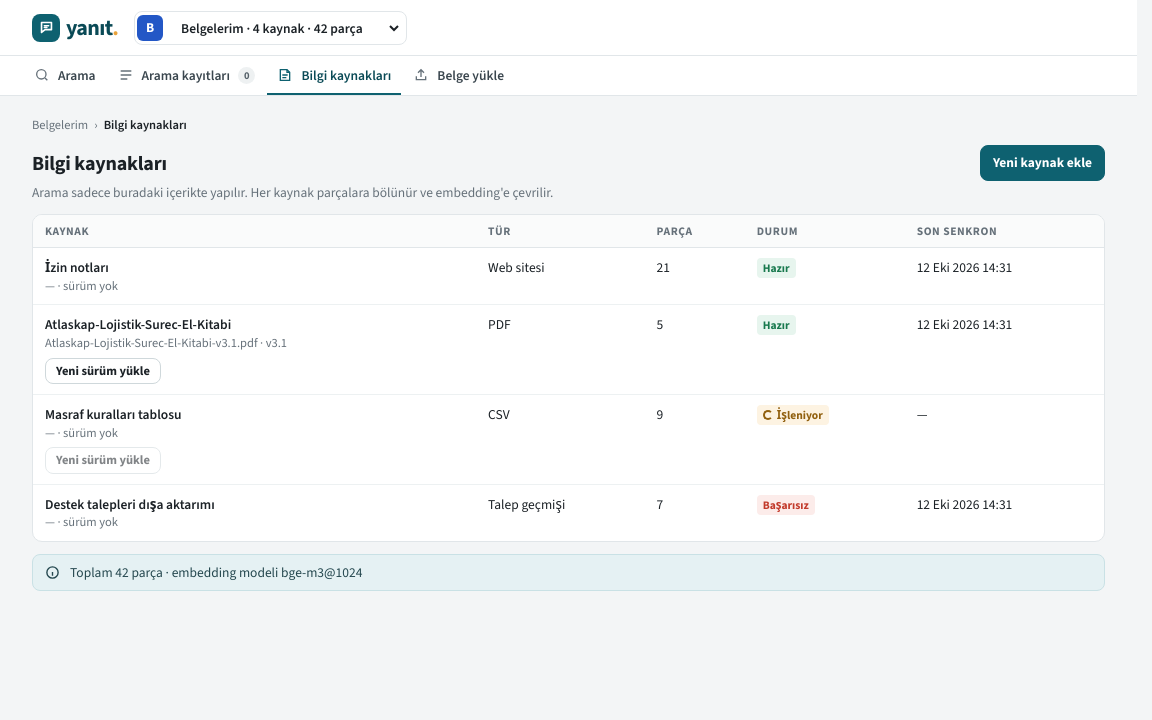
Scenario: UploadVersionDialog › givenNoFile_whenSubmit_thenAsksForFileAndSendsNothing
The width and height of the screenshot is (1152, 720).
Click the 1st button "Yeni sürüm yükle".
click(103, 371)  # box [45,358,161,384]
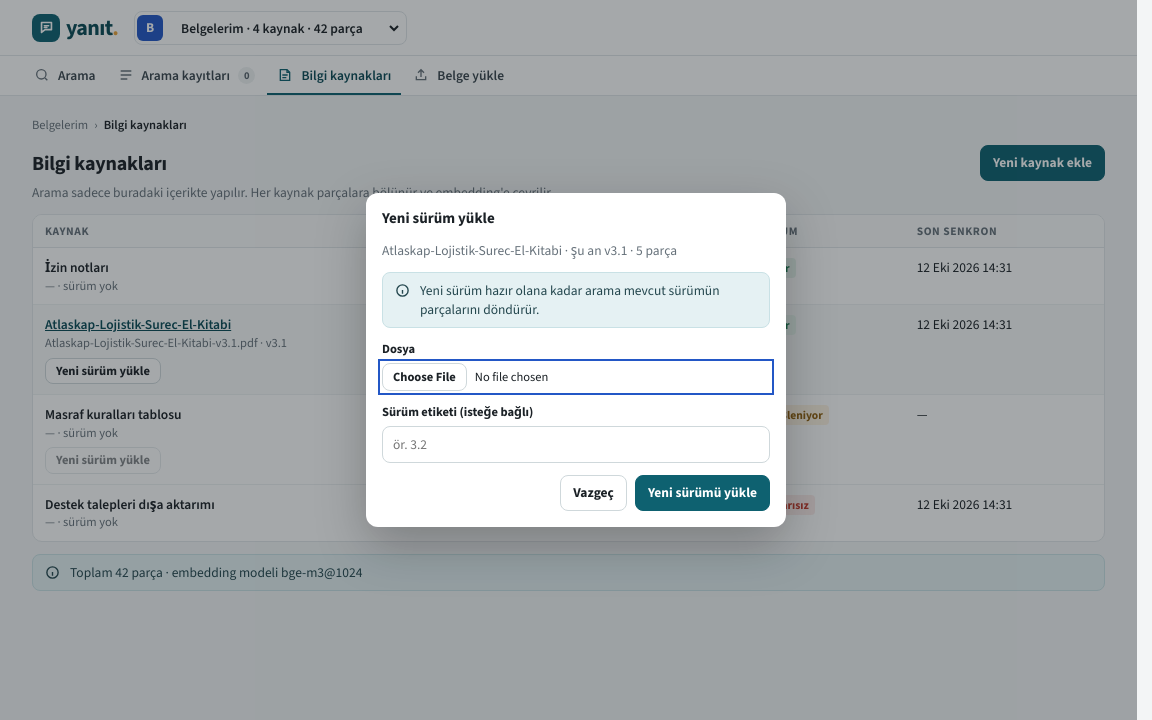
Click the button "Yeni sürümü yükle".
click(702, 493)  # box [635,475,770,510]
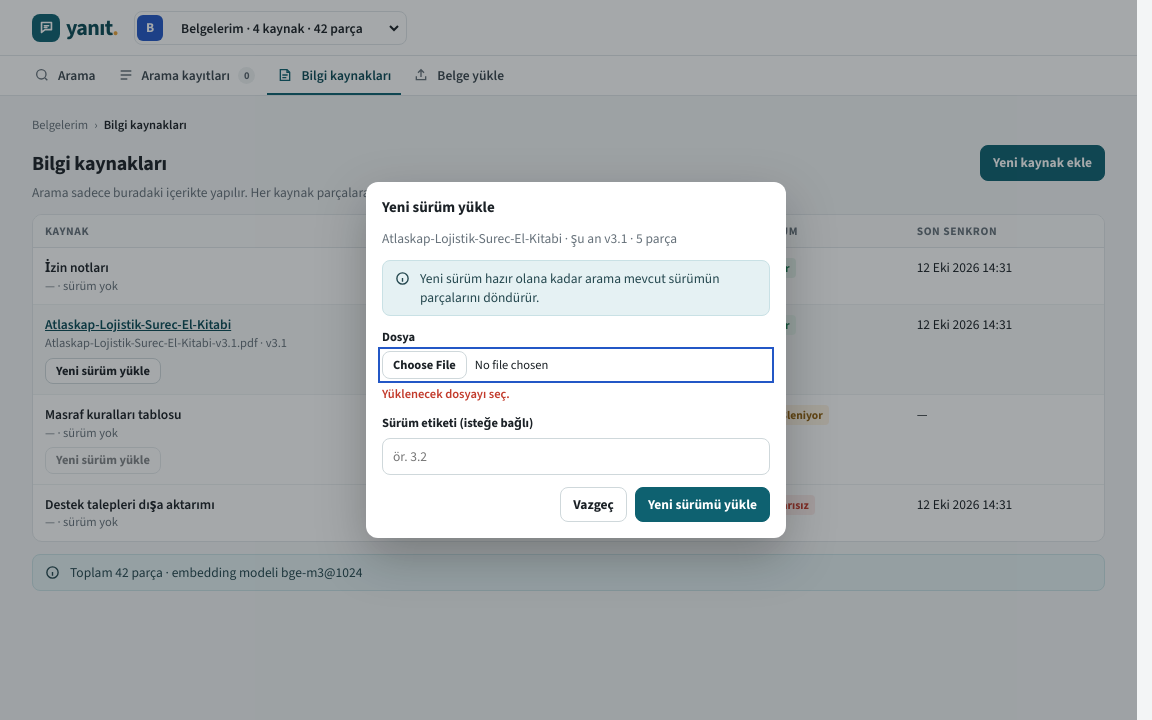
Check: the message reads "Yüklenecek dosyayı seç.", box [382,385,510,402]
